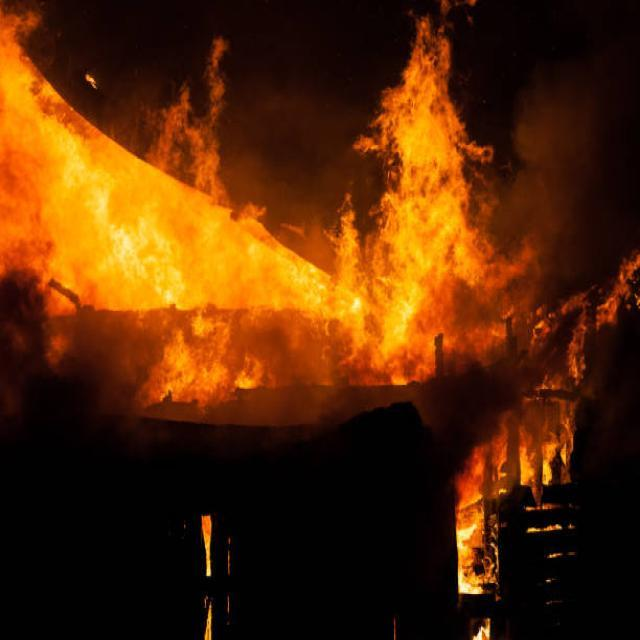Fire: (0, 18, 387, 391), (429, 258, 640, 582), (369, 15, 506, 325)
Smoke: (507, 2, 640, 306), (225, 61, 365, 244)
